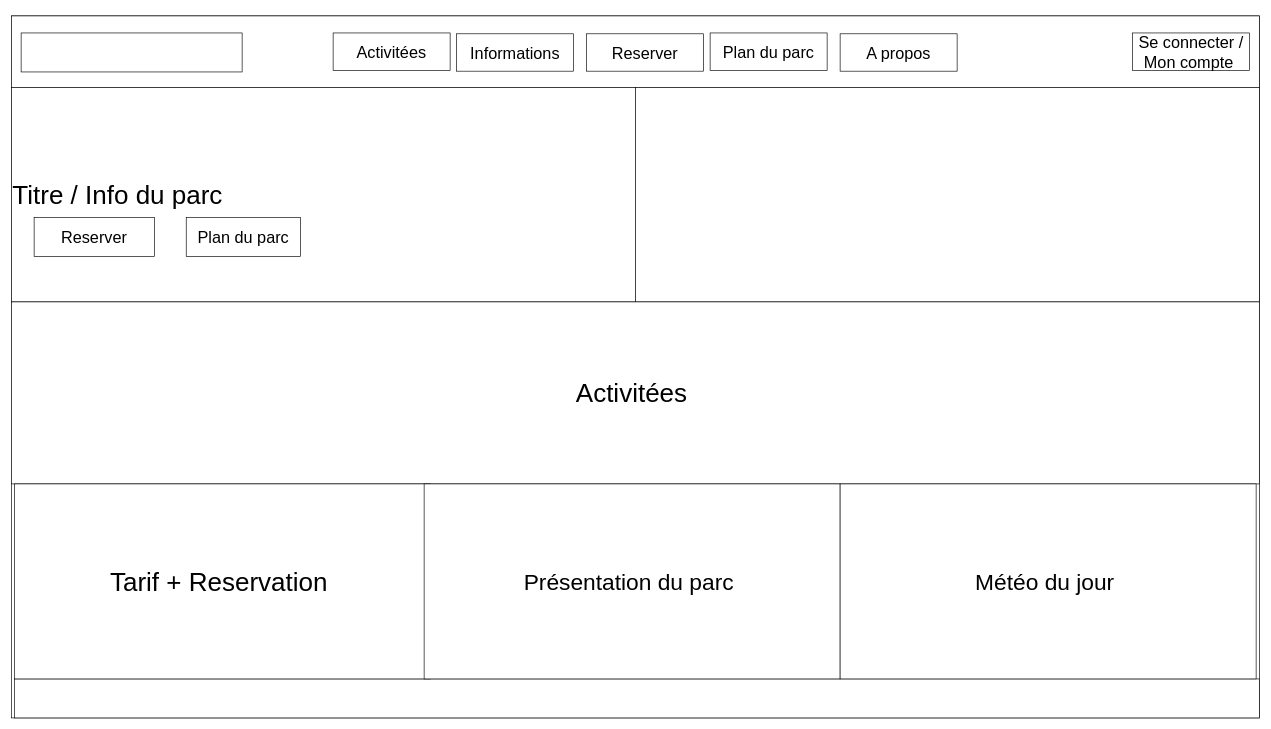
Some shapes in this 1271 by 729 pixel diagram are drawn without their labels. The shapes that lost their labels are listed below. From the top down, each one's centre as x and y in pixels, then its label:
At (131,52): "Titre du parc".
At (947,194): "Image".
At (636,698): "Informations légales / Contact / Reseaux sociaux / Lien utile".
